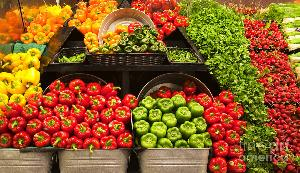bell_pepper: (1, 81, 138, 153), (136, 84, 208, 152), (205, 87, 246, 173), (68, 0, 130, 52), (20, 1, 74, 47), (0, 50, 44, 104), (131, 0, 188, 36), (106, 26, 168, 55), (54, 49, 88, 67), (169, 48, 196, 66)
radish: (254, 52, 300, 104), (268, 104, 300, 173), (249, 18, 285, 50)
